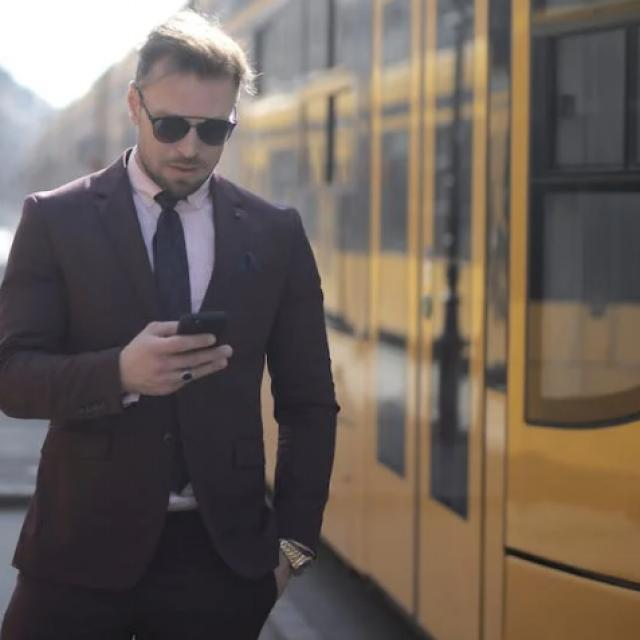Watch: (279, 532, 320, 582)
